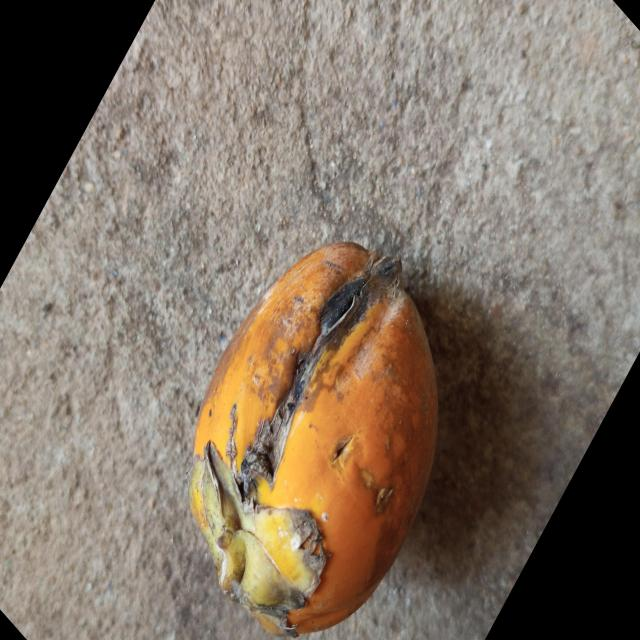damaged: (190, 243, 438, 636)
